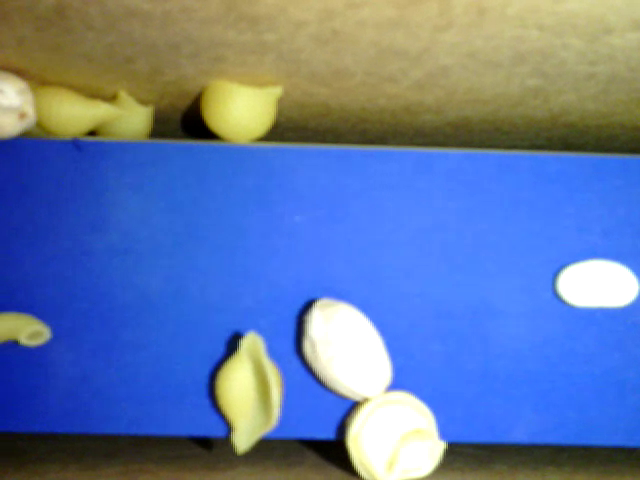elbow: (1, 305, 54, 349)
shell: (211, 324, 279, 454), (21, 78, 130, 140), (196, 73, 288, 143), (91, 85, 156, 139)
tortellini: (341, 394, 445, 479)
